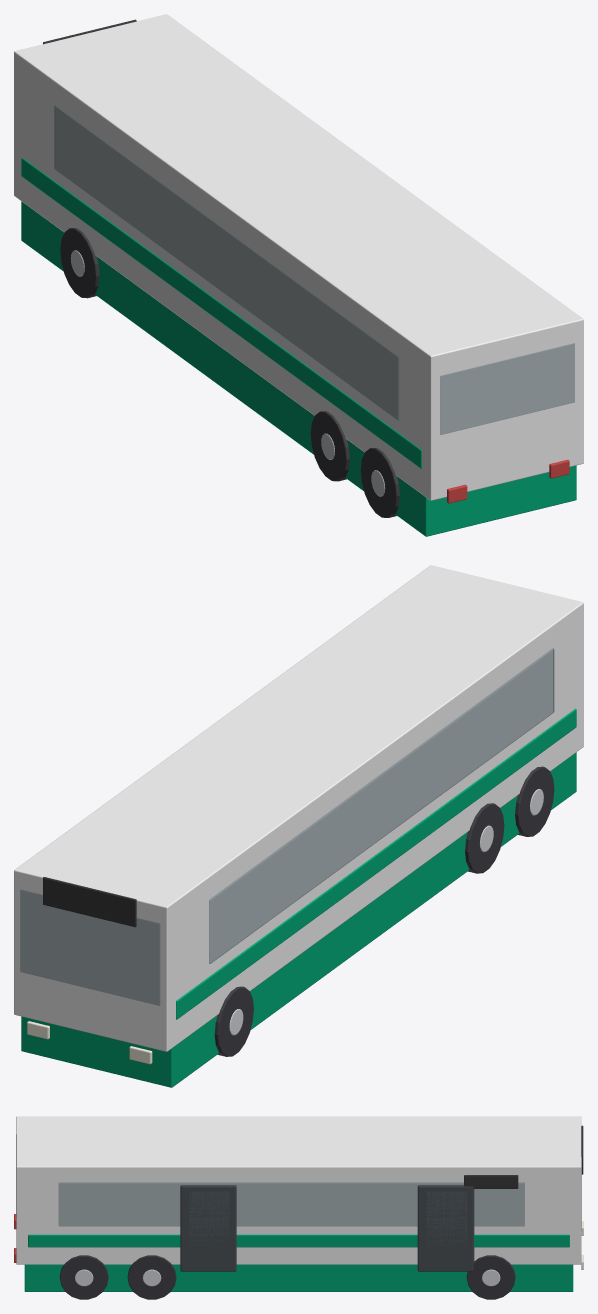
The model's file is bus_egged.glb.
3 views of the same model, one above another, from view 1: azimuth 30°, elevation 25°; view 2: azimuth 150°, elevation 25°; view 3: azimuth 270°, elevation 25° (orthographic). The views are drawn at different scales.
Visible parts, largest first — view 1: BusShell; view 2: BusShell; view 3: BusShell, Door1, Door2, Door2Glass, Door1Glass.
Boxes of the visible parts, x1,y1,x2,y2 form: BusShell: [14, 14, 583, 536]; BusShell: [14, 565, 583, 1087]; BusShell: [14, 1116, 583, 1299]; Door1: [417, 1185, 474, 1271]; Door2: [180, 1185, 236, 1271]; Door2Glass: [189, 1191, 229, 1246]; Door1Glass: [426, 1191, 467, 1246].
Bounding box in the file's own units: 2.65 × 3.11 × 12.1.
